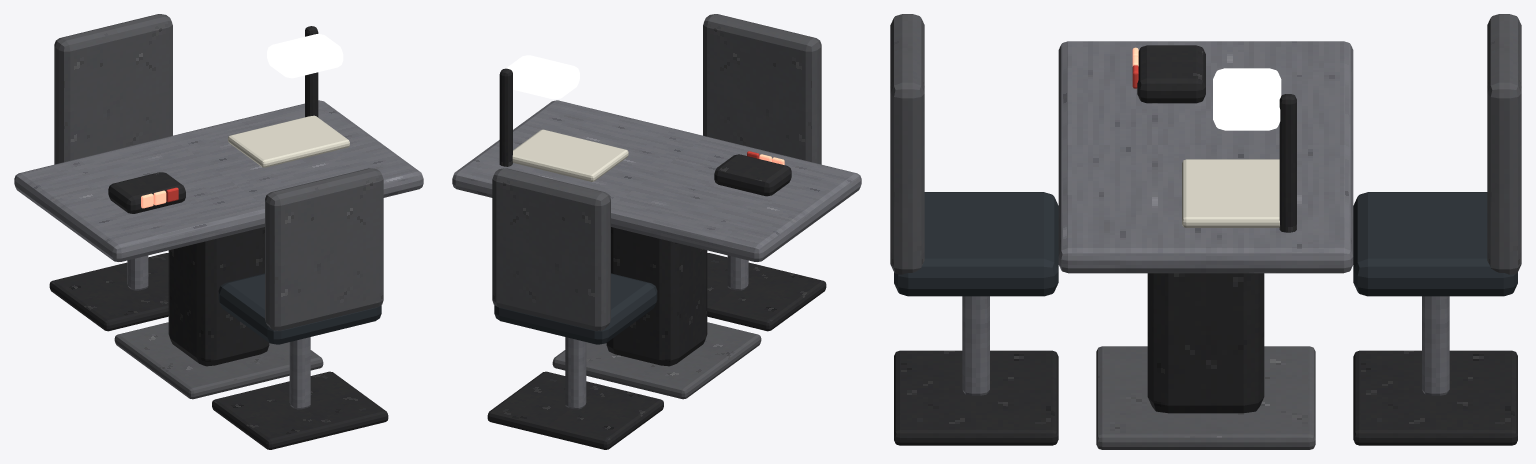
The model's file is decor_sec_interrogation_table.glb.
3 views of the same model, side by side, from view 1: azimuth 30°, elevation 25°; view 2: azimuth 150°, elevation 25°; view 3: azimuth 270°, elevation 25° (orthographic). The views are drawn at different scales.
Parts seen in each view (by area): view 1: DEC_SecInterrogationTable__Table_Top, DEC_SecInterrogationTable__Chair_Back_1, DEC_SecInterrogationTable__Chair_Back_2, DEC_SecInterrogationTable__Table_Pedestal, DEC_SecInterrogationTable__Chair_Plate_1, DEC_SecInterrogationTable__Floor_Bolt_Plate, DEC_SecInterrogationTable__Chair_Plate_2, DEC_SecInterrogationTable__Case_Folder, DEC_SecInterrogationTable__Chair_Seat_1, DEC_SecInterrogationTable__Lamp_Head, DEC_SecInterrogationTable__Recorder, DEC_SecInterrogationTable__Chair_Stem_1 (+2 smaller); view 2: DEC_SecInterrogationTable__Table_Top, DEC_SecInterrogationTable__Chair_Back_2, DEC_SecInterrogationTable__Chair_Back_1, DEC_SecInterrogationTable__Table_Pedestal, DEC_SecInterrogationTable__Chair_Plate_2, DEC_SecInterrogationTable__Floor_Bolt_Plate, DEC_SecInterrogationTable__Chair_Plate_1, DEC_SecInterrogationTable__Case_Folder, DEC_SecInterrogationTable__Chair_Seat_2, DEC_SecInterrogationTable__Lamp_Head, DEC_SecInterrogationTable__Recorder, DEC_SecInterrogationTable__Chair_Stem_2 (+2 smaller); view 3: DEC_SecInterrogationTable__Table_Top, DEC_SecInterrogationTable__Table_Pedestal, DEC_SecInterrogationTable__Floor_Bolt_Plate, DEC_SecInterrogationTable__Chair_Seat_1, DEC_SecInterrogationTable__Chair_Seat_2, DEC_SecInterrogationTable__Chair_Plate_1, DEC_SecInterrogationTable__Chair_Plate_2, DEC_SecInterrogationTable__Chair_Back_1, DEC_SecInterrogationTable__Chair_Back_2, DEC_SecInterrogationTable__Case_Folder, DEC_SecInterrogationTable__Lamp_Head, DEC_SecInterrogationTable__Recorder (+3 smaller).
Boxes of the visible parts, x1=… form: DEC_SecInterrogationTable__Table_Top: x1=14, y1=100, x2=423, y2=261; DEC_SecInterrogationTable__Chair_Back_1: x1=265, y1=168, x2=383, y2=330; DEC_SecInterrogationTable__Chair_Back_2: x1=54, y1=14, x2=172, y2=164; DEC_SecInterrogationTable__Table_Pedestal: x1=168, y1=227, x2=269, y2=366; DEC_SecInterrogationTable__Chair_Plate_1: x1=212, y1=371, x2=388, y2=449; DEC_SecInterrogationTable__Floor_Bolt_Plate: x1=114, y1=322, x2=323, y2=399; DEC_SecInterrogationTable__Chair_Plate_2: x1=49, y1=253, x2=168, y2=331; DEC_SecInterrogationTable__Case_Folder: x1=228, y1=115, x2=349, y2=167; DEC_SecInterrogationTable__Chair_Seat_1: x1=218, y1=273, x2=381, y2=344; DEC_SecInterrogationTable__Lamp_Head: x1=267, y1=34, x2=343, y2=78; DEC_SecInterrogationTable__Recorder: x1=108, y1=172, x2=185, y2=213; DEC_SecInterrogationTable__Chair_Stem_1: x1=289, y1=337, x2=310, y2=409; DEC_SecInterrogationTable__Table_Top: x1=452, y1=100, x2=861, y2=261; DEC_SecInterrogationTable__Chair_Back_2: x1=492, y1=168, x2=610, y2=330; DEC_SecInterrogationTable__Chair_Back_1: x1=703, y1=14, x2=821, y2=164; DEC_SecInterrogationTable__Table_Pedestal: x1=606, y1=227, x2=707, y2=366; DEC_SecInterrogationTable__Chair_Plate_2: x1=487, y1=371, x2=663, y2=449; DEC_SecInterrogationTable__Floor_Bolt_Plate: x1=552, y1=322, x2=761, y2=399; DEC_SecInterrogationTable__Chair_Plate_1: x1=707, y1=253, x2=826, y2=331; DEC_SecInterrogationTable__Case_Folder: x1=512, y1=129, x2=628, y2=181; DEC_SecInterrogationTable__Chair_Seat_2: x1=494, y1=273, x2=657, y2=344; DEC_SecInterrogationTable__Lamp_Head: x1=506, y1=55, x2=579, y2=99; DEC_SecInterrogationTable__Recorder: x1=714, y1=154, x2=791, y2=196; DEC_SecInterrogationTable__Chair_Stem_2: x1=565, y1=337, x2=586, y2=409; DEC_SecInterrogationTable__Table_Top: x1=1058, y1=41, x2=1353, y2=273; DEC_SecInterrogationTable__Table_Pedestal: x1=1147, y1=273, x2=1264, y2=413; DEC_SecInterrogationTable__Floor_Bolt_Plate: x1=1096, y1=346, x2=1315, y2=449; DEC_SecInterrogationTable__Chair_Seat_1: x1=894, y1=192, x2=1058, y2=296; DEC_SecInterrogationTable__Chair_Seat_2: x1=1353, y1=192, x2=1517, y2=296; DEC_SecInterrogationTable__Chair_Plate_1: x1=894, y1=350, x2=1058, y2=445; DEC_SecInterrogationTable__Chair_Plate_2: x1=1353, y1=350, x2=1517, y2=445; DEC_SecInterrogationTable__Chair_Back_1: x1=890, y1=14, x2=924, y2=274; DEC_SecInterrogationTable__Chair_Back_2: x1=1487, y1=14, x2=1521, y2=274; DEC_SecInterrogationTable__Case_Folder: x1=1182, y1=159, x2=1279, y2=227; DEC_SecInterrogationTable__Lamp_Head: x1=1213, y1=68, x2=1281, y2=130; DEC_SecInterrogationTable__Recorder: x1=1137, y1=45, x2=1205, y2=103.
Size of the model in its own units: 1.48 by 1.27 by 1.84.
8 materials, 3 textured.
